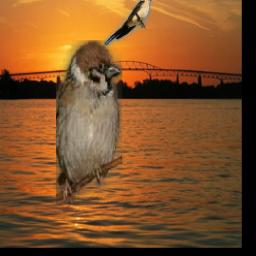Sparrow: (56, 40, 122, 203)
Swallow: (103, 0, 152, 46)
